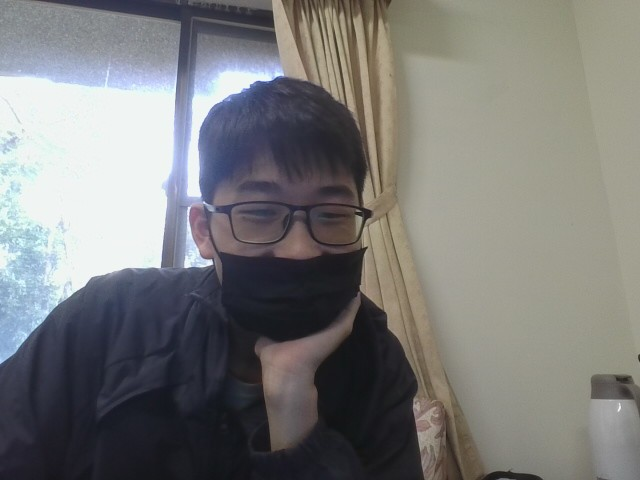No_Helmet: (192, 73, 375, 261)
person: (0, 59, 497, 479)
